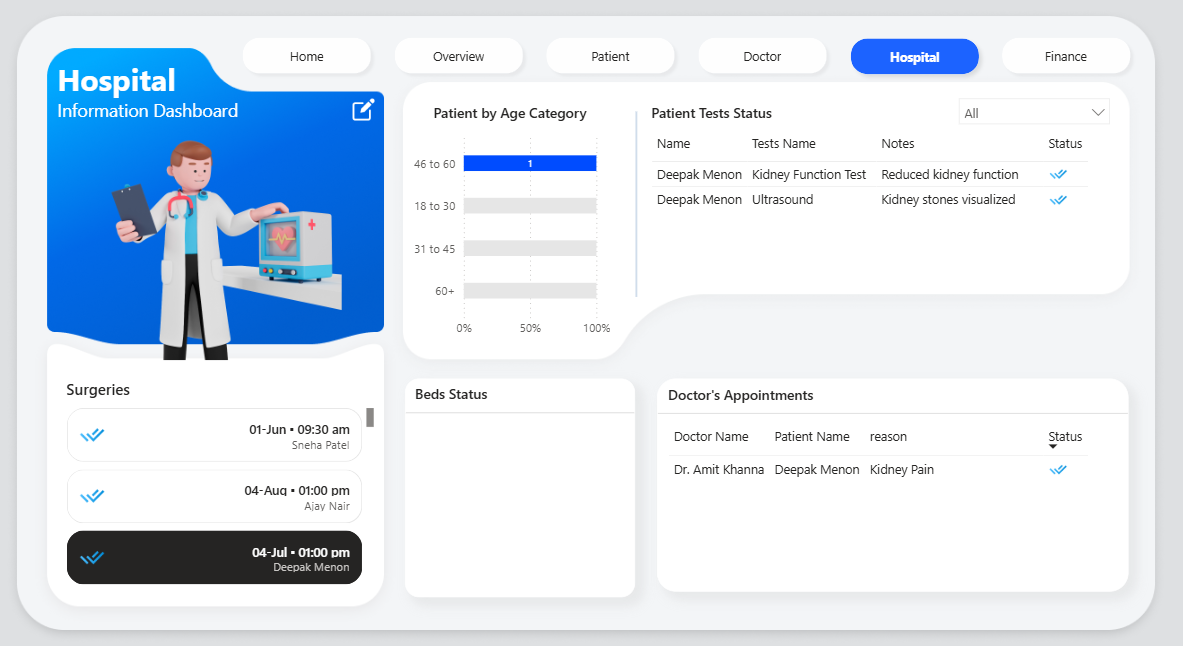

The dashboard page shown, as its layout file describes it:
{"tool":"powerbi","page":{"name":"Hospital","canvas":[1280,720],"ordinal":4},"visuals":[{"type":"textbox","box":[75,73.8,236.9,78.6],"z":0},{"type":"advancedSlicerVisual","title":"Surgeries","fields":{"Values":["Surgery.Date_Time"]},"box":[84.5,419,336.9,226.2],"z":1000},{"type":"tableEx","title":"Patient Tests Status","fields":{"Values":["Patient.name","Medical_Tests.test_name","Patient_Tests.notes","Patient_Tests.Icon"]},"box":[704.8,126.2,500,206],"z":2000},{"type":"hundredPercentStackedColumnChart","title":"Beds Status","fields":{"Category":["Rooms.room_type"],"Y":["Beds.Bed_Occupied","Beds.Bed_Available"]},"box":[448.8,419,244,232.1],"z":3000},{"type":"advancedSlicerVisual","title":"Patient Tests Status","fields":{"Values":["Staff.name"]},"box":[694.1,340.5,522.6,70.2],"z":4000},{"type":"hundredPercentStackedBarChart","title":"Patient by Age Category","fields":{"Category":["Patient.Age_category"],"Y":["CountNonNull(Patient.patient_id)","Patient.Total"]},"box":[448.8,126.2,222.6,257.1],"z":5000},{"type":"tableEx","title":"Doctor''s Appointments","fields":{"Values":["Doctor.name","Patient.name","Appointment.reason","Appointment.Icon"]},"box":[715.5,419,500,226.2],"z":6000},{"type":"shape","box":[670.5,136,45.3,196.9],"z":7000},{"type":"slicer","fields":{"Values":["Patient.name"]},"box":[1025.3,111,179.7,40.6],"z":8000},{"type":"pageNavigator","box":[269,48.8,959.5,53.6],"z":9000},{"type":"image","box":[75,136.9,357.1,266.7],"z":10000},{"type":"image","box":[384.2,116.5,39.6,33.6],"z":11000}]}

Visuals, with their boxes on the page's 1280x720 design canvas (x1, y1, x2, y2). These are canvas units, not pixel positions in the 1183x646 screenshot, which may show the page scaled, cropped or inside an application window:
textbox: 75/74/312/152
"Surgeries" advancedSlicerVisual: 84/419/421/645
"Patient Tests Status" tableEx: 705/126/1205/332
"Beds Status" hundredPercentStackedColumnChart: 449/419/693/651
"Patient Tests Status" advancedSlicerVisual: 694/340/1217/411
"Patient by Age Category" hundredPercentStackedBarChart: 449/126/671/383
"Doctor''s Appointments" tableEx: 716/419/1216/645
shape: 670/136/716/333
slicer - Patient.name: 1025/111/1205/152
pageNavigator: 269/49/1228/102
image: 75/137/432/404
image: 384/116/424/150
